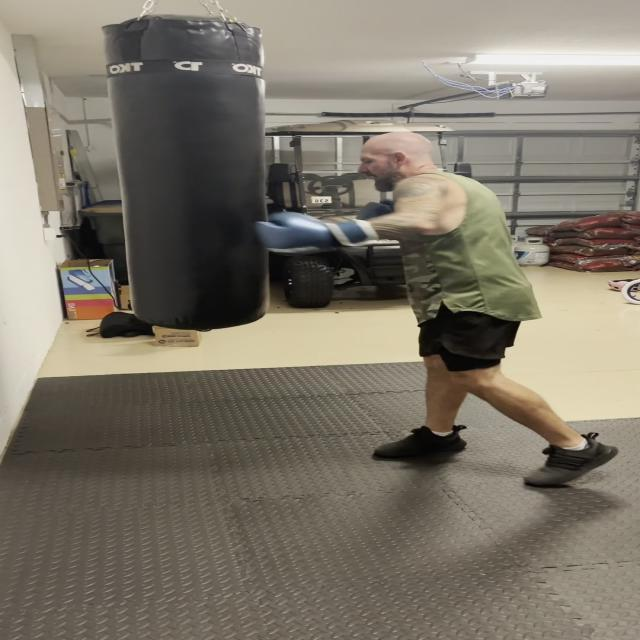bag: (110, 14, 282, 334)
hook: (237, 119, 528, 277)
